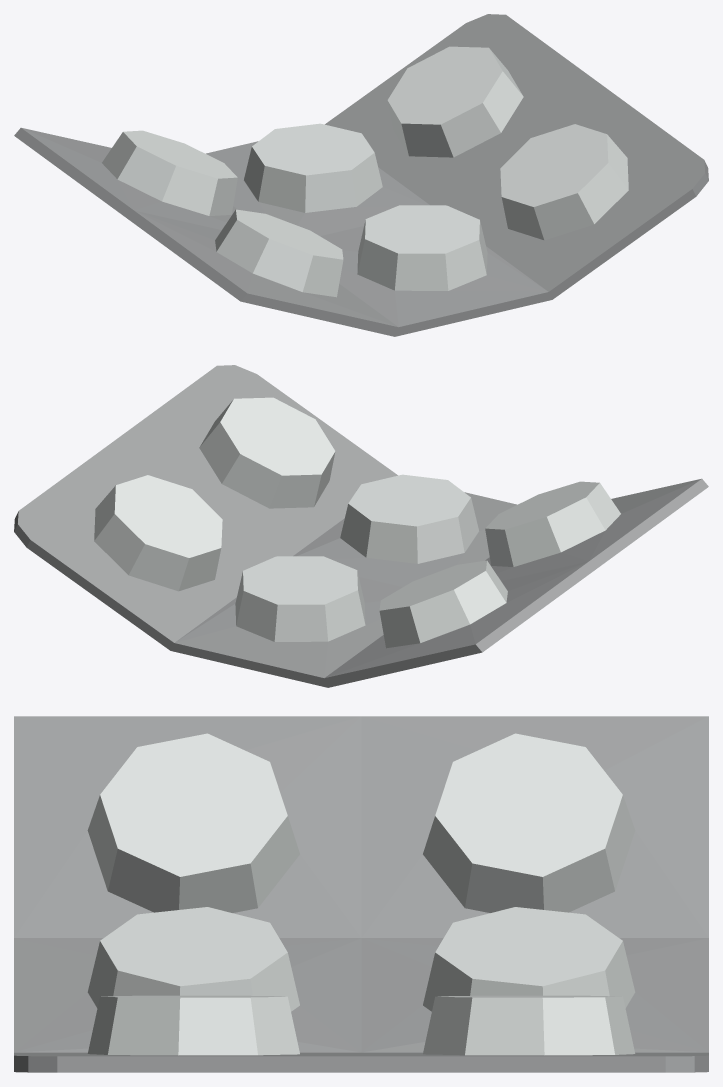
The model's file is PillBlister2.fbx.
3 renders of one model, top to bottom at view 1: azimuth 30°, elevation 25°; view 2: azimuth 150°, elevation 25°; view 3: azimuth 270°, elevation 25°, orthographic. The views are drawn at different scales.
Parts seen in each view (by area): view 1: Cube; view 2: Cube; view 3: Cube.
Part boxes in pixels (x1,y1,x2,y2): Cube: [14, 14, 708, 336]; Cube: [14, 365, 708, 687]; Cube: [14, 716, 708, 1072].
Size of the model in its own units: 247 by 48.71 by 201.
